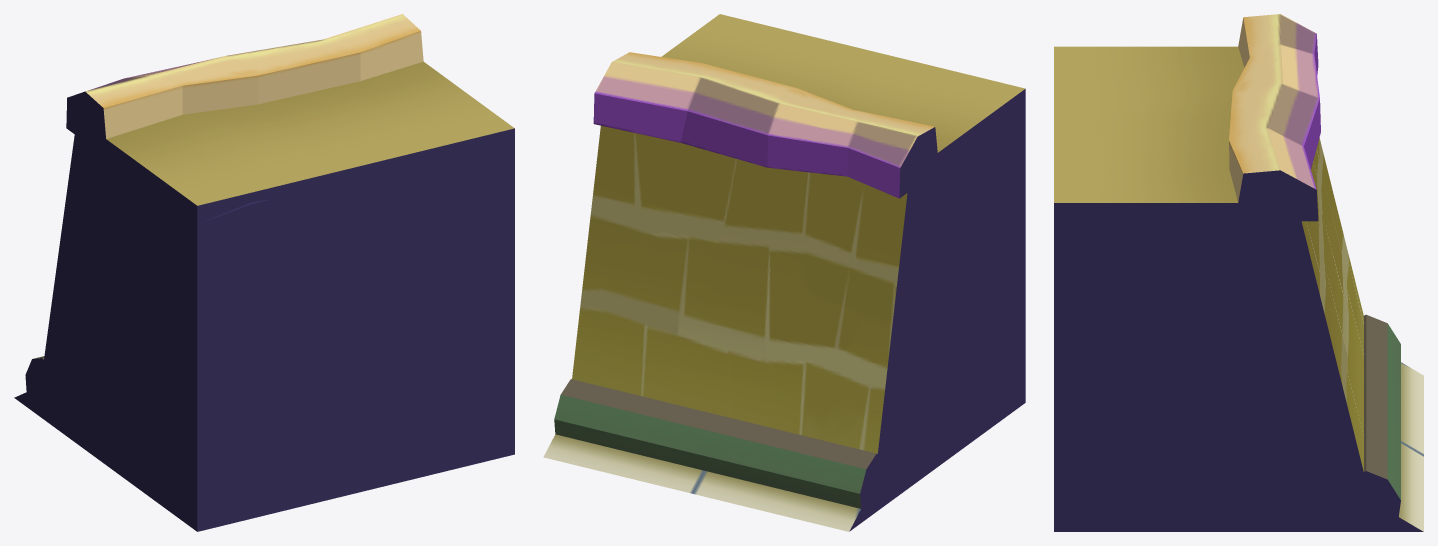
File: TileSet_ParedHorizontal07.fbx
3 views of the same model, side by side, from view 1: azimuth 30°, elevation 25°; view 2: azimuth 150°, elevation 25°; view 3: azimuth 270°, elevation 25° (orthographic). The views are drawn at different scales.
Parts seen in each view (by area): view 1: Int_2_Wall_Hor_Mid_4133065096017444686; view 2: Int_2_Wall_Hor_Mid_4133065096017444686; view 3: Int_2_Wall_Hor_Mid_4133065096017444686.
Part boxes in pixels (x1,y1,x2,y2): Int_2_Wall_Hor_Mid_4133065096017444686: [14, 14, 514, 531]; Int_2_Wall_Hor_Mid_4133065096017444686: [543, 14, 1025, 531]; Int_2_Wall_Hor_Mid_4133065096017444686: [1054, 14, 1423, 531].
Bounding box in the file's own units: 1 × 1.08 × 1.
1 material, 1 textured.
